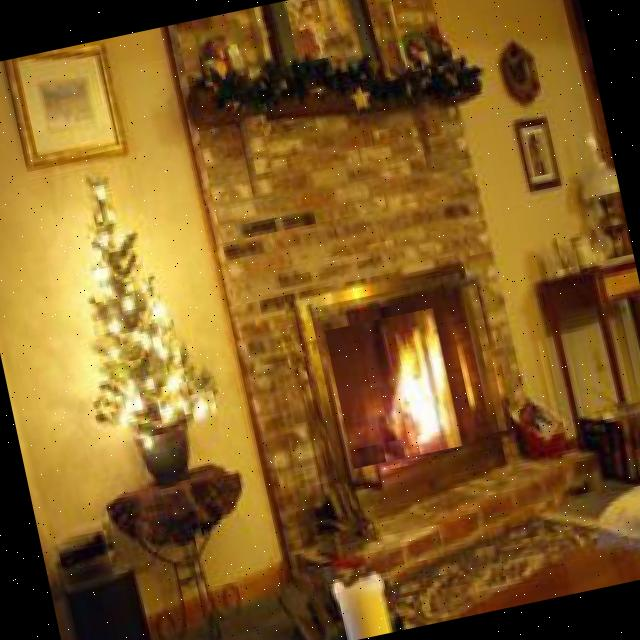fire: (324, 307, 462, 468)
